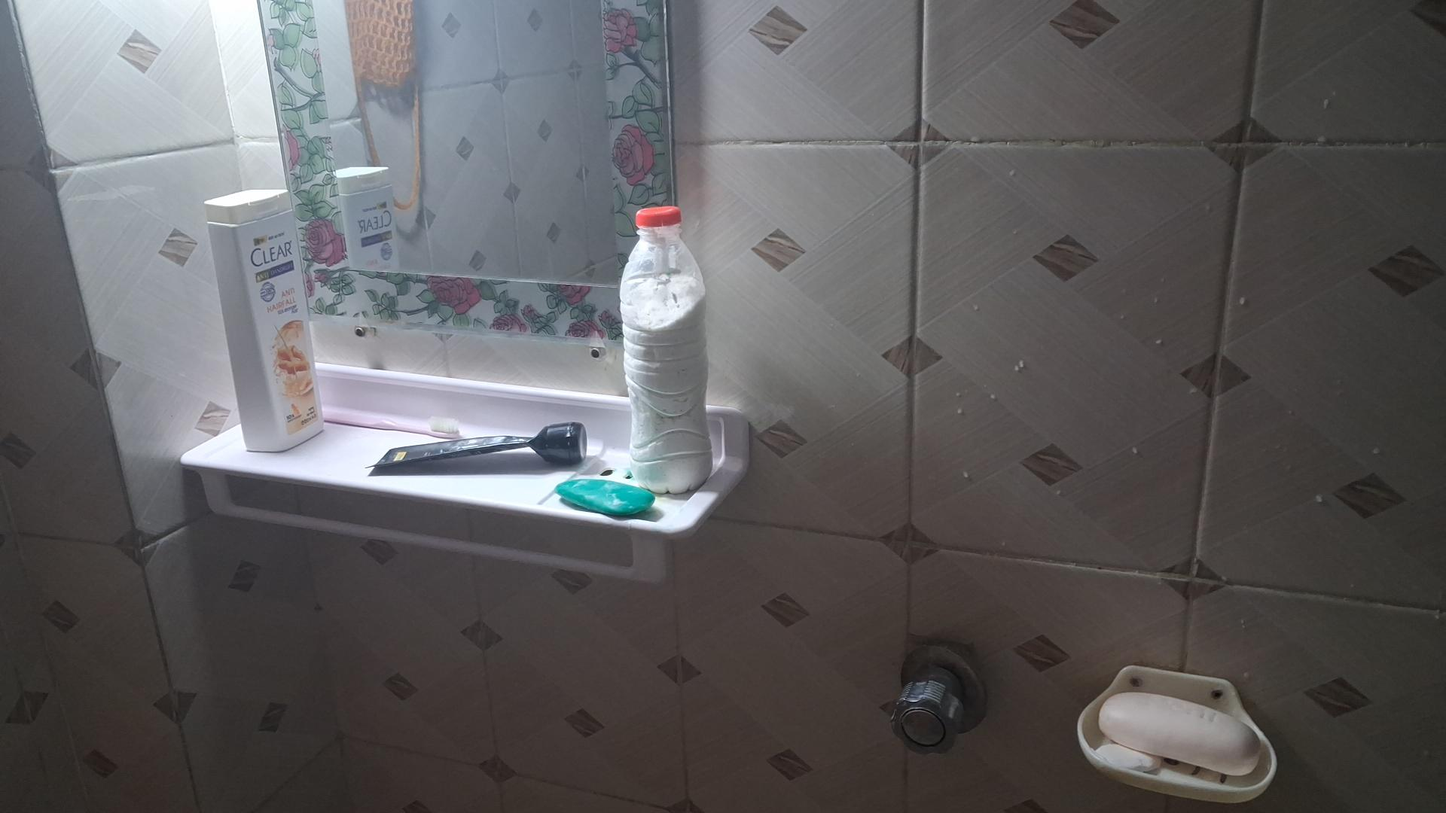Bottle: (197, 185, 322, 460), (619, 204, 713, 497)
Soap: (1099, 691, 1262, 785), (554, 468, 657, 522)
